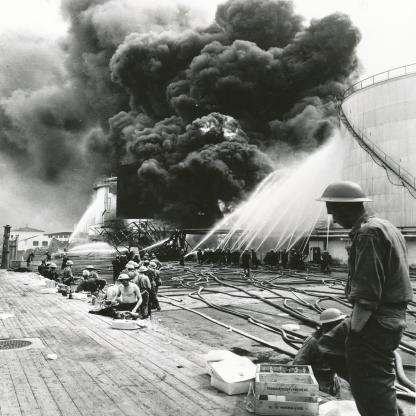Helmet: (316, 181, 370, 203), (116, 273, 130, 280), (138, 265, 149, 270), (50, 263, 59, 269), (85, 266, 95, 271), (65, 260, 73, 266), (83, 270, 89, 278), (148, 262, 156, 267), (127, 265, 135, 269), (126, 260, 132, 265), (133, 262, 139, 265)
